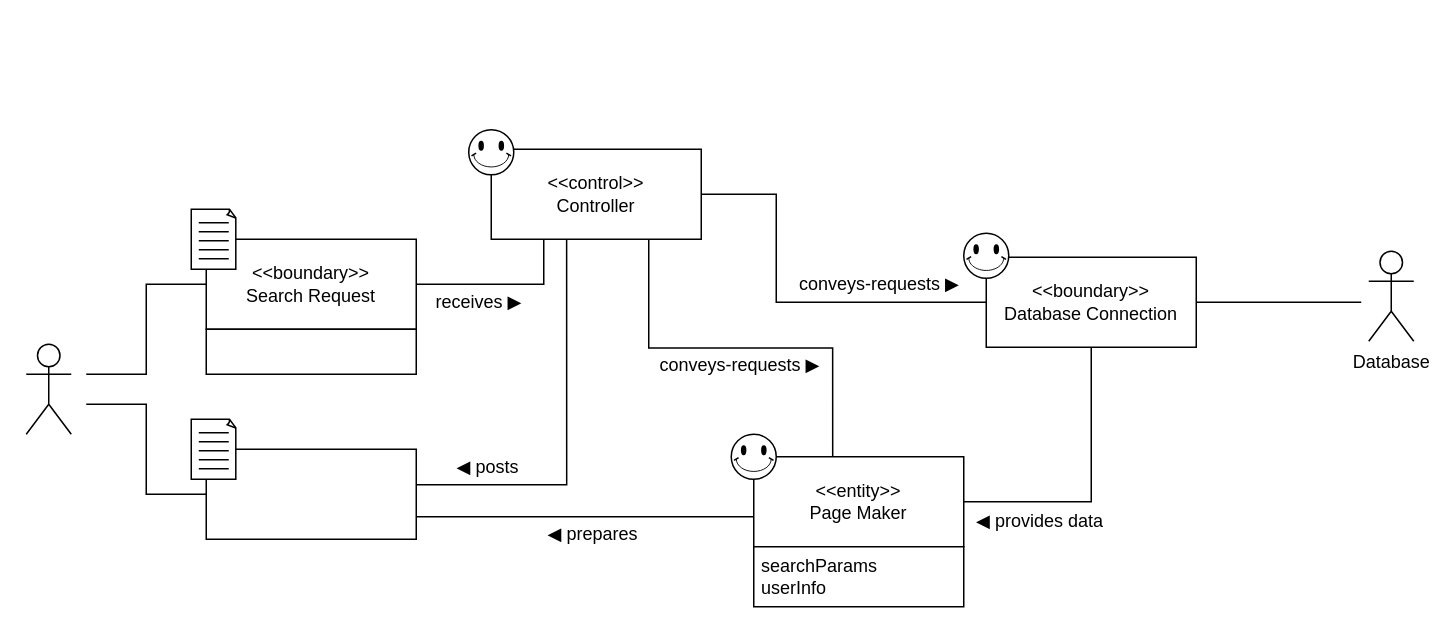
Some shapes in this 1455 by 633 pixel diagram are drawn without their labels. Here are the shapes that lost their labels. From the top down, the box of each, then its label:
(205, 328, 416, 374): searchParams
(25, 343, 71, 434): User
(205, 448, 416, 539): <<boundary>> Interface Page
